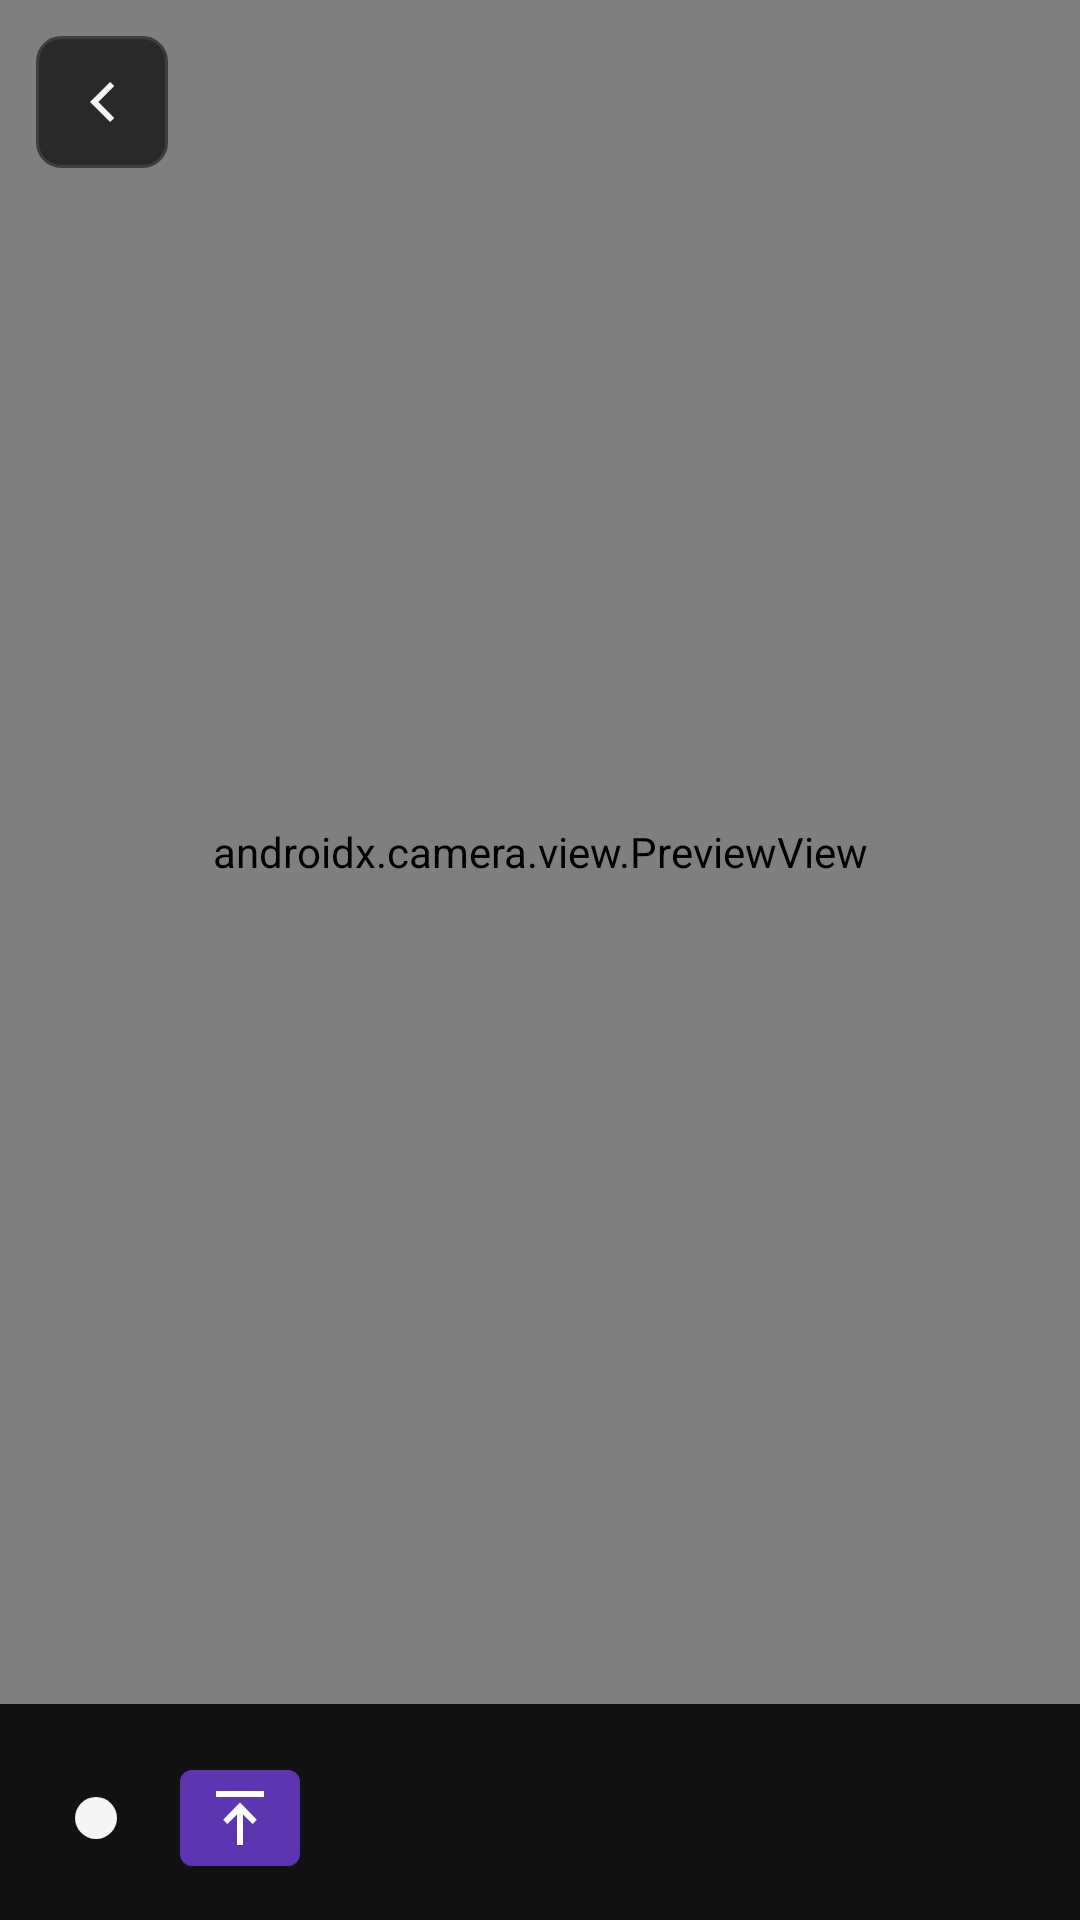

Point at icon controls on the screen. Image size 1080 × 1920, points as (x,y).
Back: (102,102)
import: (240,1818)
